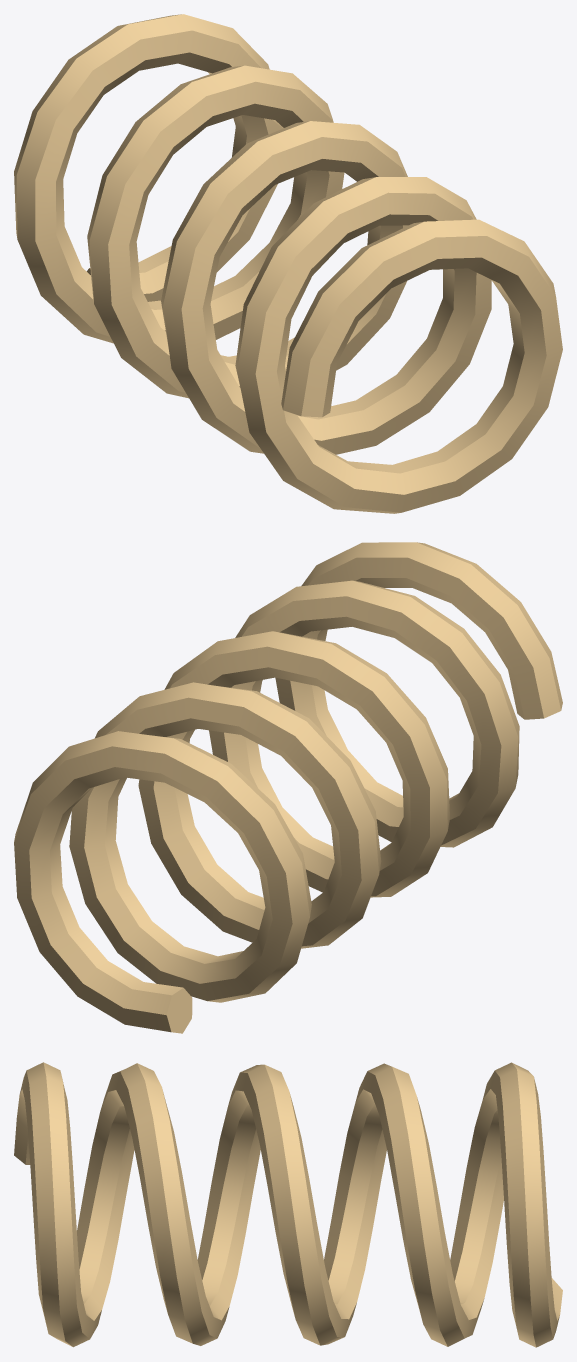
Rendered from SM_Susp_FL_Spring.fbx.
3 renders of one model, top to bottom at view 1: azimuth 30°, elevation 25°; view 2: azimuth 150°, elevation 25°; view 3: azimuth 270°, elevation 25°, orthographic. The views are drawn at different scales.
Visible parts, largest first — view 1: Export_Susp_FL_Spring; view 2: Export_Susp_FL_Spring; view 3: Export_Susp_FL_Spring.
Part boxes in pixels (<box>): Export_Susp_FL_Spring: <box>14,14,562,513</box>; Export_Susp_FL_Spring: <box>14,542,562,1033</box>; Export_Susp_FL_Spring: <box>14,1062,562,1347</box>.
Bounding box in the file's own units: 0.1563 × 0.0813 × 0.0813.
